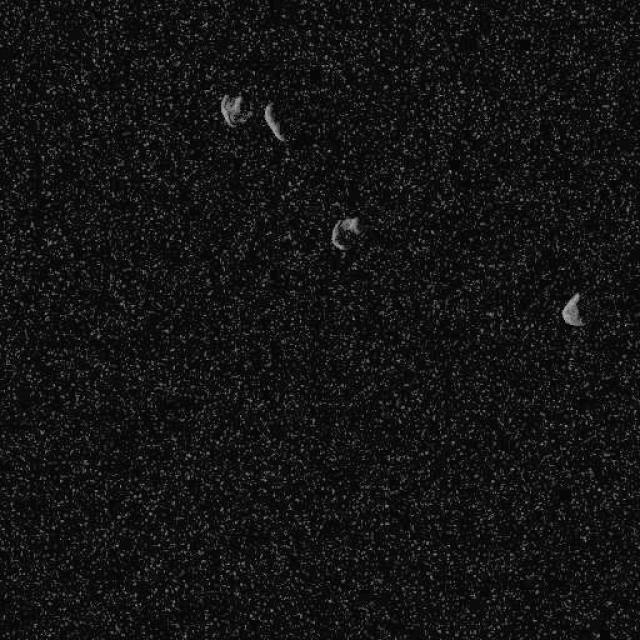D2: (218, 91, 252, 128), (329, 215, 361, 251), (262, 100, 288, 142), (560, 292, 585, 326)
